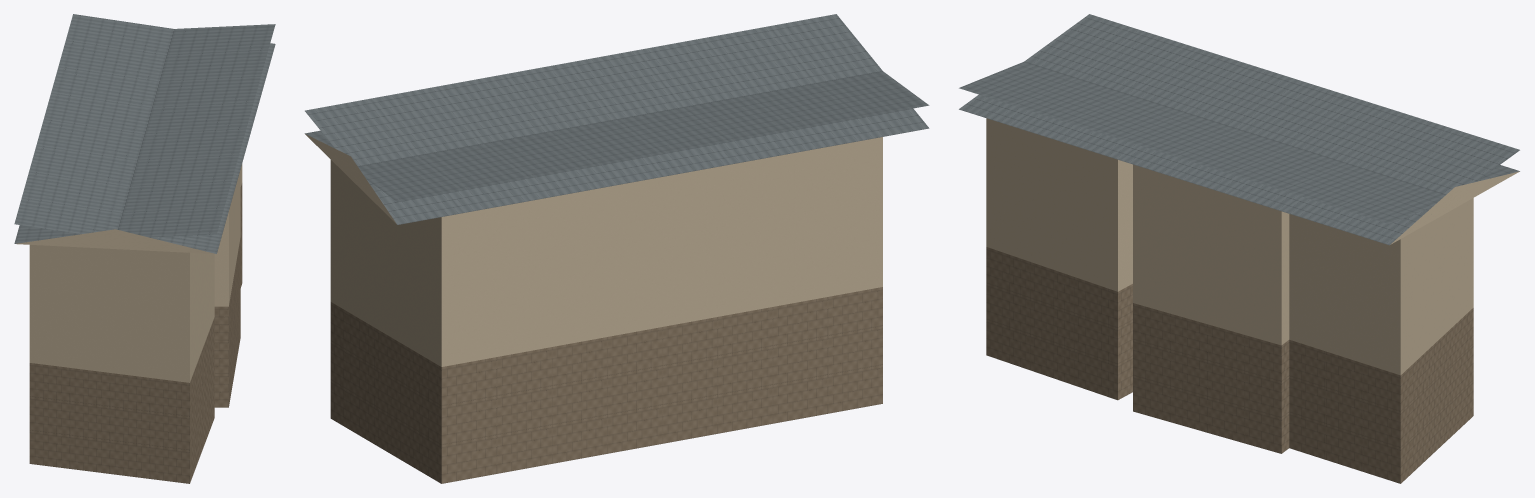
File: bld_c31_-40_464.gltf
The picture shows the model from 3 angles, left to right: view 1: azimuth 30°, elevation 25°; view 2: azimuth 150°, elevation 25°; view 3: azimuth 270°, elevation 25°; orthographic projection. The views are drawn at different scales.
Visible parts, largest first — view 1: bld_c31_-40_464; view 2: bld_c31_-40_464; view 3: bld_c31_-40_464.
Boxes of the visible parts, x1,y1,x2,y2 form: bld_c31_-40_464: (14, 14, 275, 483); bld_c31_-40_464: (304, 14, 929, 483); bld_c31_-40_464: (959, 14, 1519, 483).
Bounding box in the file's own units: 21.18 × 12.9 × 23.94.
Materials: 4 (4 with a texture image).
